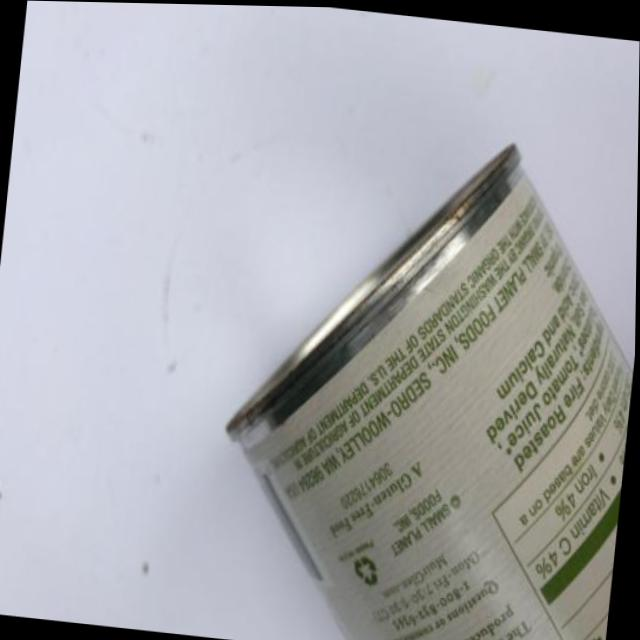metal: (184, 66, 639, 640)
